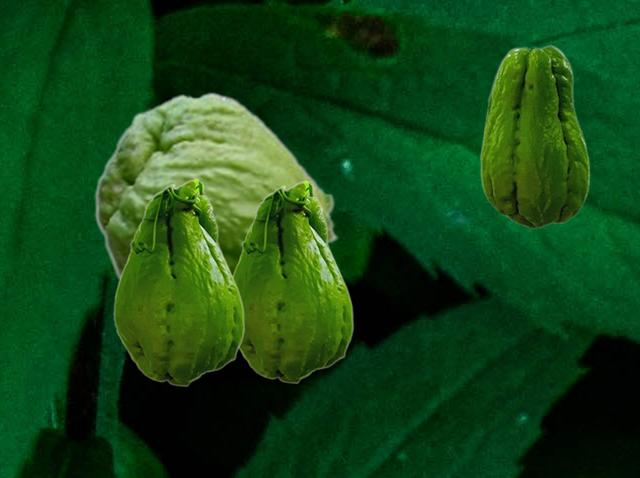sayote: (94, 91, 339, 283), (113, 178, 244, 386), (233, 180, 353, 383), (480, 44, 589, 228)
